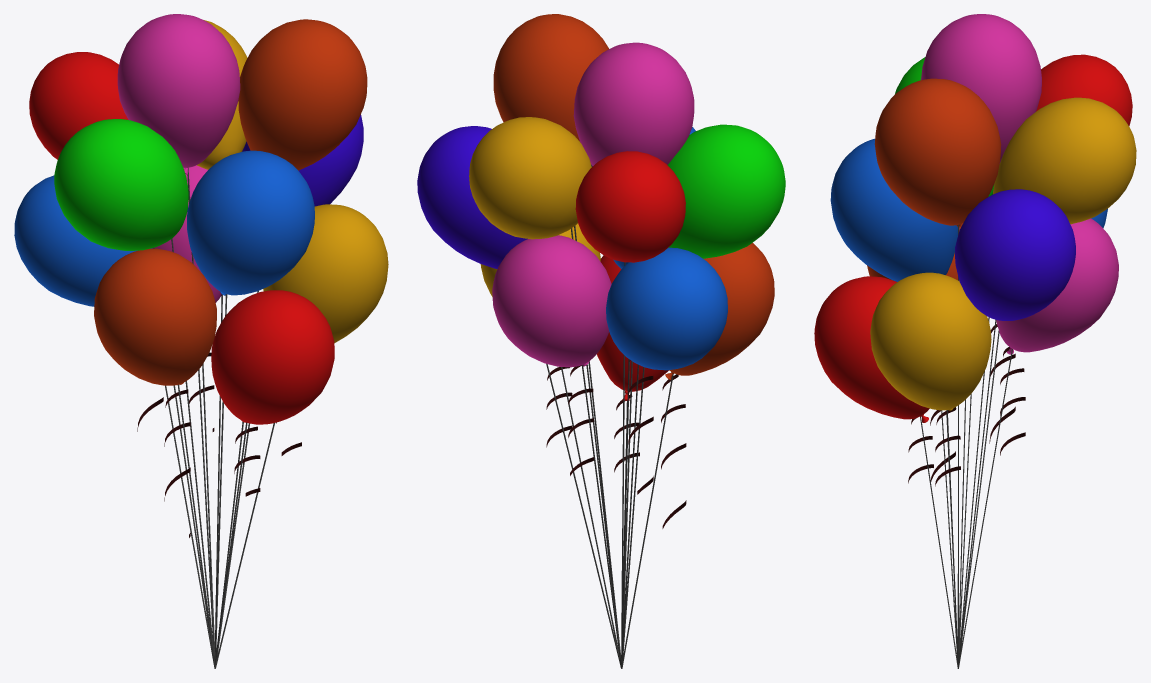
The picture shows the model from 3 angles, left to right: view 1: azimuth 30°, elevation 25°; view 2: azimuth 150°, elevation 25°; view 3: azimuth 270°, elevation 25°; orthographic projection.
Visible parts, largest first — view 1: Obj3d66-13096322-29-120, Obj3d66-13096322-30-338, Obj3d66-13096322-27-409, Obj3d66-13096322-28-260, Obj3d66-13096322-26-392, Obj3d66-13096322-24-311, Obj3d66-13096322-22-347, Obj3d66-13096322-19-13, Obj3d66-13096322-5-787, Obj3d66-13096322-20-313, Obj3d66-13096322-16-179, Obj3d66-13096322-18-560 (+6 smaller); view 2: Obj3d66-13096322-18-560, Obj3d66-13096322-27-409, Obj3d66-13096322-19-13, Obj3d66-13096322-28-260, Obj3d66-13096322-16-179, Obj3d66-13096322-5-787, Obj3d66-13096322-29-120, Obj3d66-13096322-20-313, Obj3d66-13096322-26-392, Obj3d66-13096322-24-311, Obj3d66-13096322-10-884, Obj3d66-13096322-6-262 (+8 smaller); view 3: Obj3d66-13096322-29-120, Obj3d66-13096322-22-347, Obj3d66-13096322-20-313, Obj3d66-13096322-16-179, Obj3d66-13096322-30-338, Obj3d66-13096322-28-260, Obj3d66-13096322-24-311, Obj3d66-13096322-18-560, Obj3d66-13096322-5-787, Obj3d66-13096322-10-884, Obj3d66-13096322-6-262, Obj3d66-13096322-4-916 (+1 smaller).
Part boxes in pixels (x1,y1,x2,y2): Obj3d66-13096322-29-120: [238, 19, 367, 170]; Obj3d66-13096322-30-338: [187, 150, 314, 295]; Obj3d66-13096322-27-409: [54, 119, 188, 250]; Obj3d66-13096322-28-260: [117, 14, 240, 174]; Obj3d66-13096322-26-392: [94, 248, 216, 385]; Obj3d66-13096322-24-311: [211, 290, 334, 424]; Obj3d66-13096322-22-347: [263, 204, 388, 343]; Obj3d66-13096322-19-13: [14, 175, 152, 306]; Obj3d66-13096322-5-787: [29, 52, 128, 159]; Obj3d66-13096322-20-313: [242, 114, 363, 206]; Obj3d66-13096322-16-179: [197, 20, 247, 169]; Obj3d66-13096322-18-560: [152, 165, 221, 302]; Obj3d66-13096322-18-560: [492, 235, 611, 367]; Obj3d66-13096322-27-409: [667, 124, 785, 258]; Obj3d66-13096322-19-13: [606, 247, 727, 370]; Obj3d66-13096322-28-260: [573, 42, 694, 166]; Obj3d66-13096322-16-179: [469, 117, 591, 239]; Obj3d66-13096322-5-787: [575, 151, 685, 262]; Obj3d66-13096322-29-120: [493, 14, 608, 141]; Obj3d66-13096322-20-313: [417, 126, 527, 268]; Obj3d66-13096322-26-392: [665, 243, 774, 379]; Obj3d66-13096322-24-311: [596, 255, 668, 400]; Obj3d66-13096322-10-884: [546, 364, 620, 667]; Obj3d66-13096322-6-262: [581, 365, 621, 668]; Obj3d66-13096322-29-120: [874, 78, 1001, 227]; Obj3d66-13096322-22-347: [870, 272, 991, 410]; Obj3d66-13096322-20-313: [955, 189, 1075, 320]; Obj3d66-13096322-16-179: [993, 97, 1136, 224]; Obj3d66-13096322-30-338: [830, 138, 959, 281]; Obj3d66-13096322-28-260: [921, 14, 1041, 163]; Obj3d66-13096322-24-311: [814, 276, 929, 422]; Obj3d66-13096322-18-560: [996, 218, 1118, 354]; Obj3d66-13096322-5-787: [1036, 54, 1132, 126]; Obj3d66-13096322-10-884: [958, 319, 996, 667]; Obj3d66-13096322-6-262: [959, 349, 1012, 666]; Obj3d66-13096322-4-916: [961, 330, 999, 648].
Size of the model in its own units: 929482 by 1763190 by 807240.
